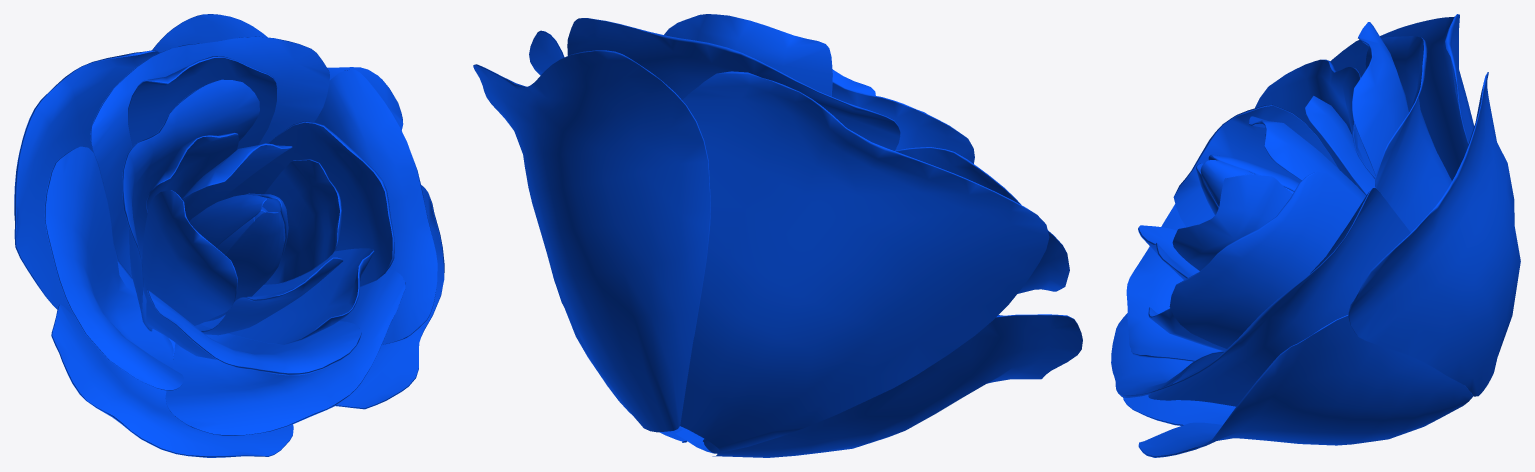
The model's file is roseGLASS.glb.
3 renders of one model, left to right at view 1: azimuth 30°, elevation 25°; view 2: azimuth 150°, elevation 25°; view 3: azimuth 270°, elevation 25°, orthographic. The views are drawn at different scales.
Visible parts, largest first — view 1: node_id30_1; view 2: node_id30_1; view 3: node_id30_1.
Boxes of the visible parts, left/top/right/bottom form: node_id30_1: left=14, top=14, right=444, bottom=457; node_id30_1: left=473, top=14, right=1082, bottom=457; node_id30_1: left=1111, top=14, right=1520, bottom=457.
Size of the model in its own units: 0.1878 by 0.1426 by 0.1388.
